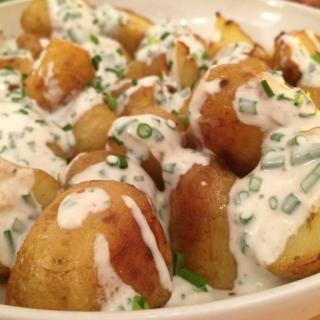Potato: (0, 0, 319, 310), (5, 179, 174, 312)
